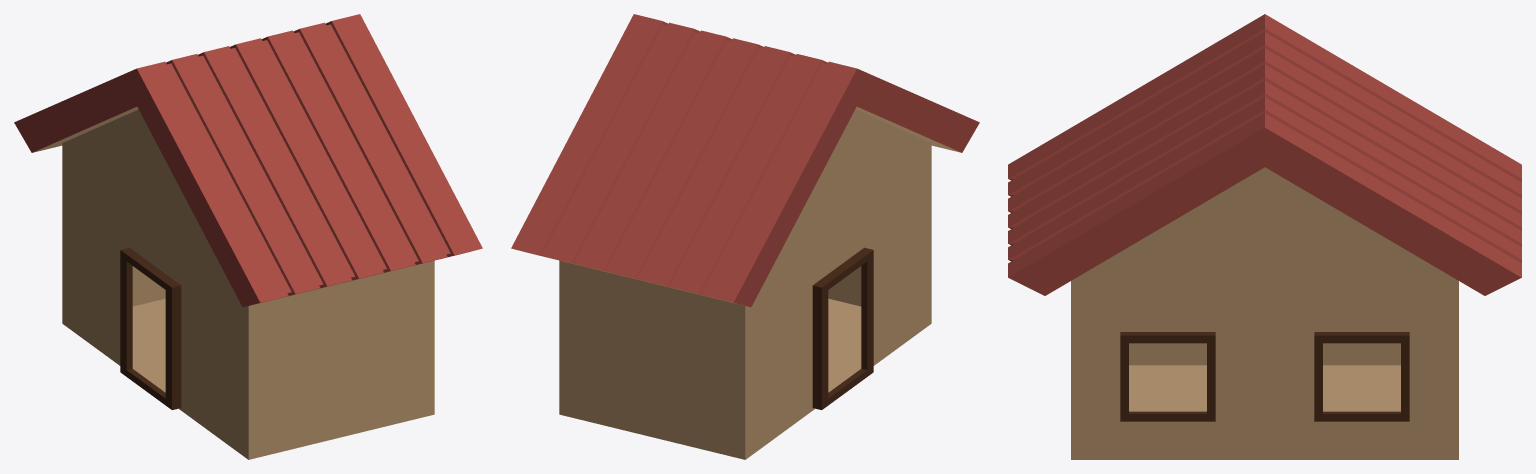
Rendered from House.fbx.
3 views of the same model, side by side, from view 1: azimuth 30°, elevation 25°; view 2: azimuth 150°, elevation 25°; view 3: azimuth 270°, elevation 25° (orthographic). The views are drawn at different scales.
Parts seen in each view (by area): view 1: Cube; view 2: Cube; view 3: Cube.
Part boxes in pixels (left/top/right/bottom): Cube: left=14, top=14, right=482, bottom=459; Cube: left=511, top=14, right=979, bottom=459; Cube: left=1008, top=14, right=1521, bottom=459.
Bounding box in the file's own units: 1097 × 1539 × 2096.
